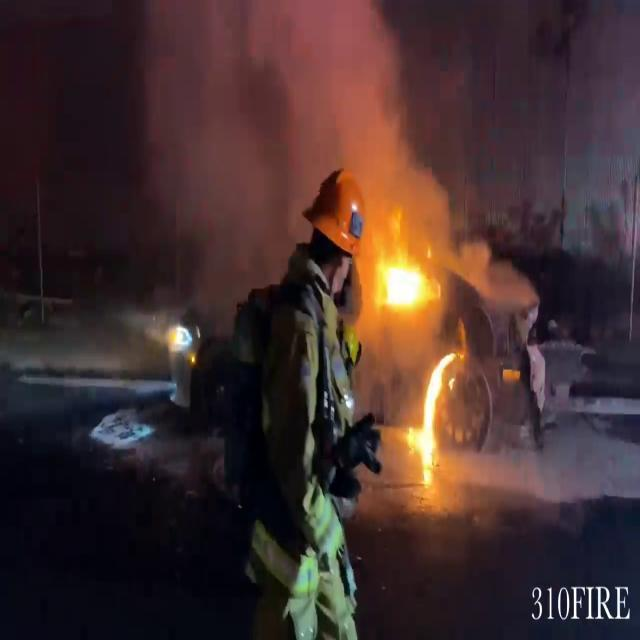Fire: (372, 225, 440, 323), (411, 345, 455, 483)
Smoke: (138, 1, 452, 363)
